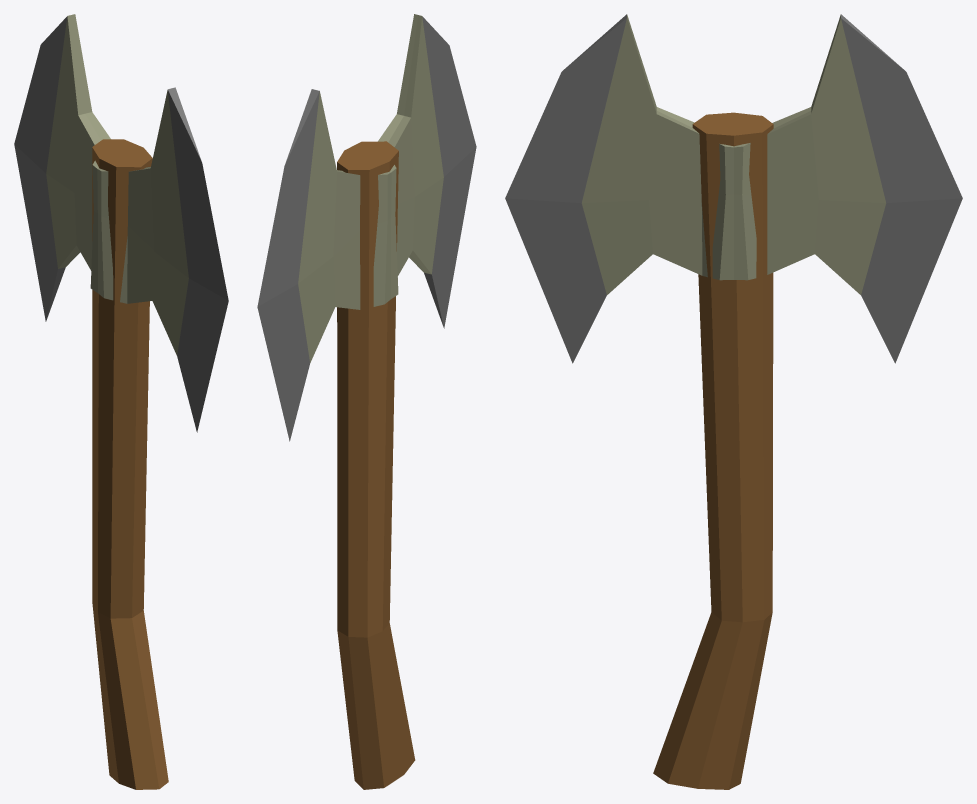
The model's file is Axe Export Test.glb.
The picture shows the model from 3 angles, left to right: view 1: azimuth 30°, elevation 25°; view 2: azimuth 150°, elevation 25°; view 3: azimuth 270°, elevation 25°; orthographic projection. The views are drawn at different scales.
Visible parts, largest first — view 1: Axe Generator; view 2: Axe Generator; view 3: Axe Generator.
Boxes of the visible parts, x1,y1,x2,y2 form: Axe Generator: (14, 14, 228, 789); Axe Generator: (257, 14, 476, 789); Axe Generator: (505, 14, 962, 789).
Size of the model in its own units: 0.0747 by 1.05 by 0.5651.
